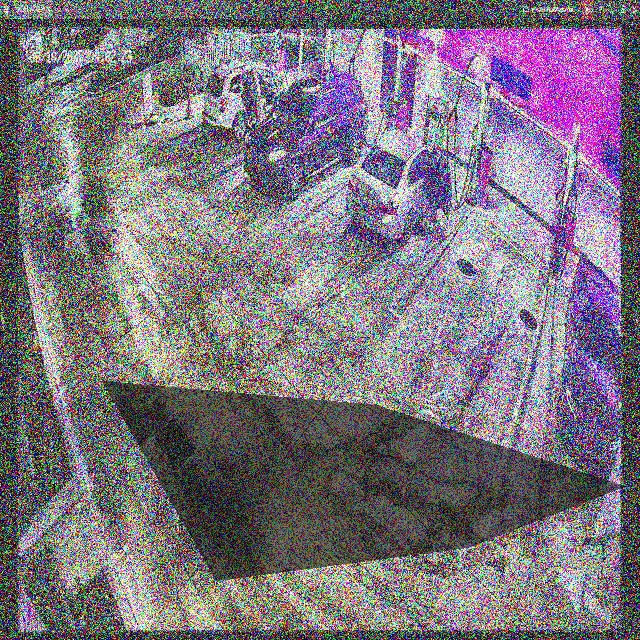Car: (247, 68, 366, 201), (347, 129, 452, 246)
